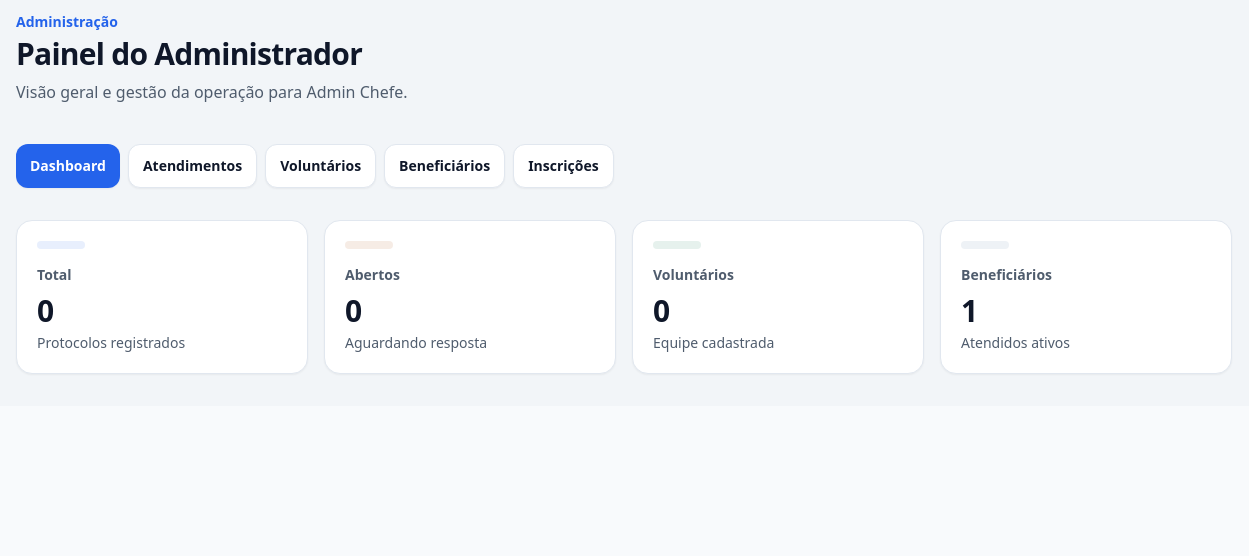
DashboardAdmin › deve listar beneficiários filtrados da API
Expected: the heading "Painel do Administrador" is shown, left=16, top=36, right=408, bottom=72
# Clica na aba de Beneficiários
Click the button "Beneficiários".
click(445, 166)  # box left=384, top=144, right=505, bottom=188
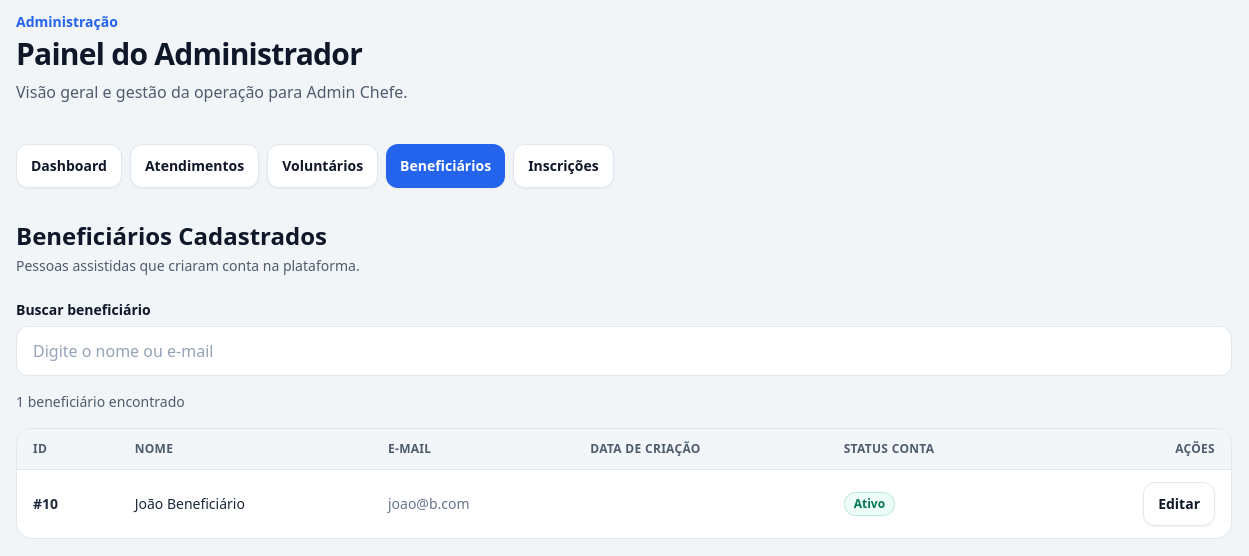
Expected: the text "João Beneficiário" is shown, left=119, top=470, right=372, bottom=538
